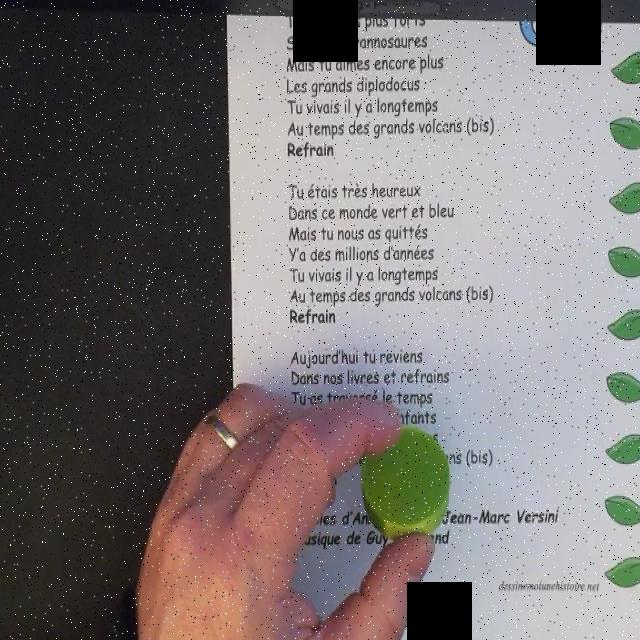round: (361, 428, 451, 538)
